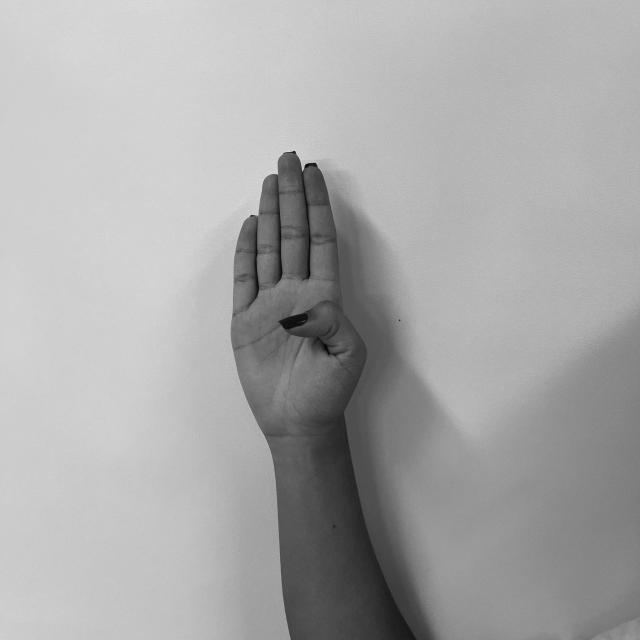Letra B: (222, 146, 372, 437)
